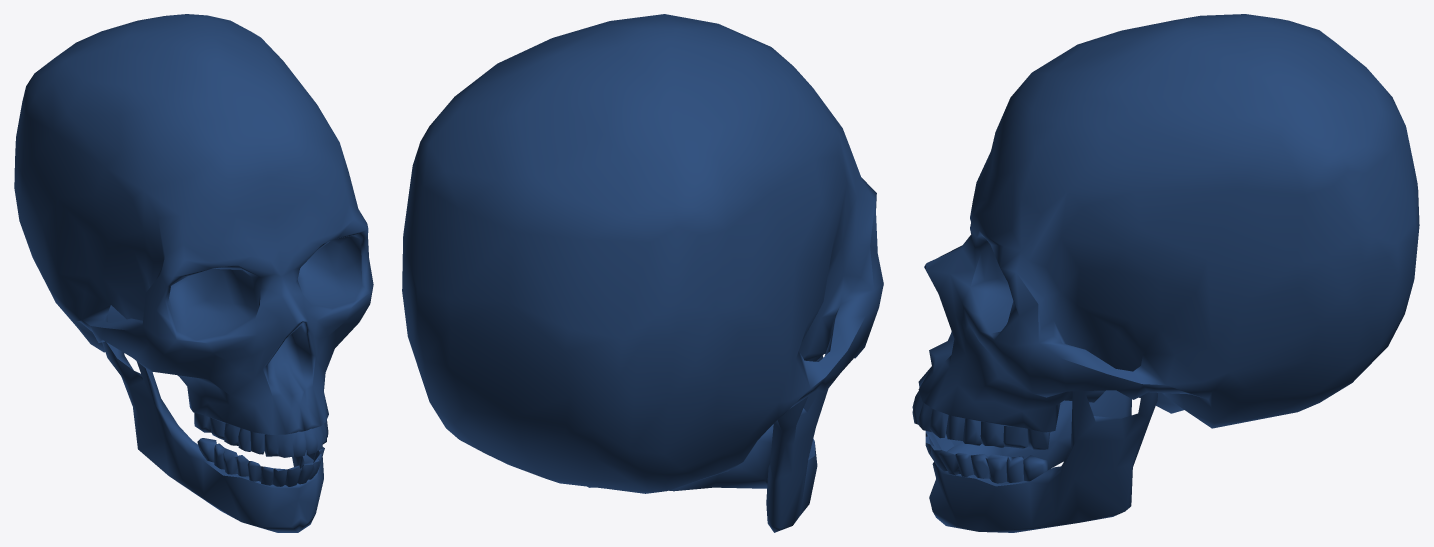
Rendered from skull_lp2.fbx.
3 views of the same model, side by side, from view 1: azimuth 30°, elevation 25°; view 2: azimuth 150°, elevation 25°; view 3: azimuth 270°, elevation 25° (orthographic). The views are drawn at different scales.
Visible parts, largest first — view 1: polySurface1; view 2: polySurface1; view 3: polySurface1.
Boxes of the visible parts, x1,y1,x2,y2 form: polySurface1: [14, 14, 373, 532]; polySurface1: [402, 14, 883, 532]; polySurface1: [912, 14, 1419, 532].
Size of the model in its own units: 20.02 by 31.43 by 29.6.
